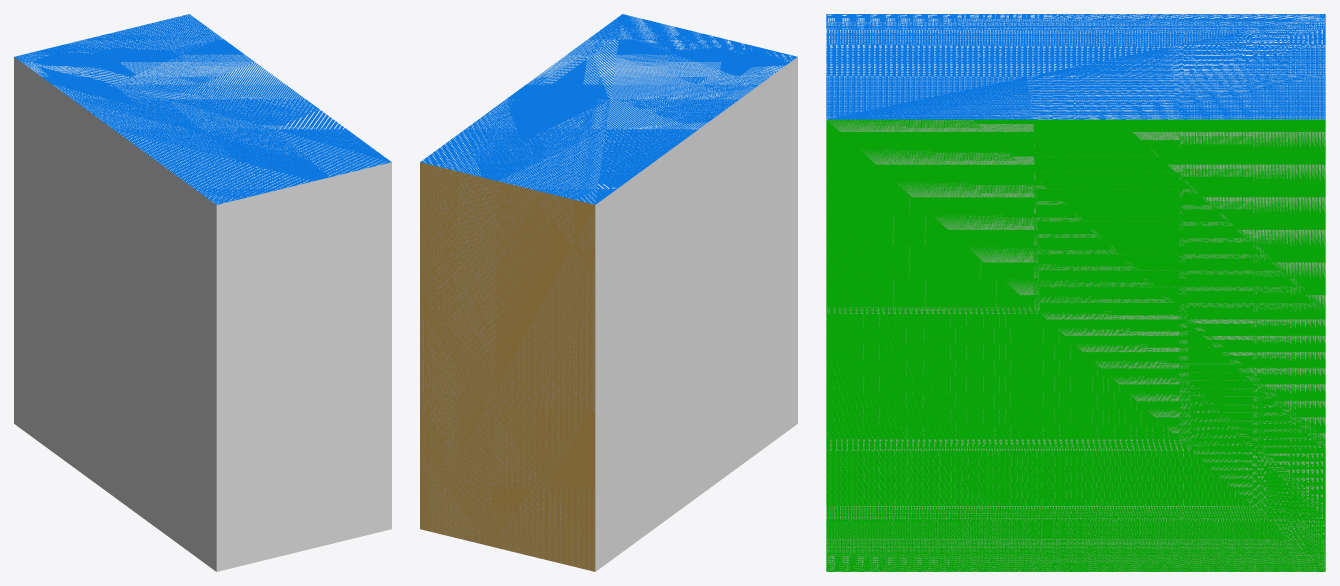
The model's file is Figura1.dae.
The picture shows the model from 3 angles, left to right: view 1: azimuth 30°, elevation 25°; view 2: azimuth 150°, elevation 25°; view 3: azimuth 270°, elevation 25°; orthographic projection. The views are drawn at different scales.
Visible parts, largest first — view 1: SketchUp (×2); view 2: SketchUp (×3); view 3: SketchUp (×2).
Part boxes in pixels (<box>): SketchUp (×2): <box>14,14,391,571</box>; SketchUp (×3): <box>420,14,797,571</box>; SketchUp (×2): <box>826,14,1325,571</box>.
Size of the model in its own units: 7.87 by 15.75 by 15.75.
